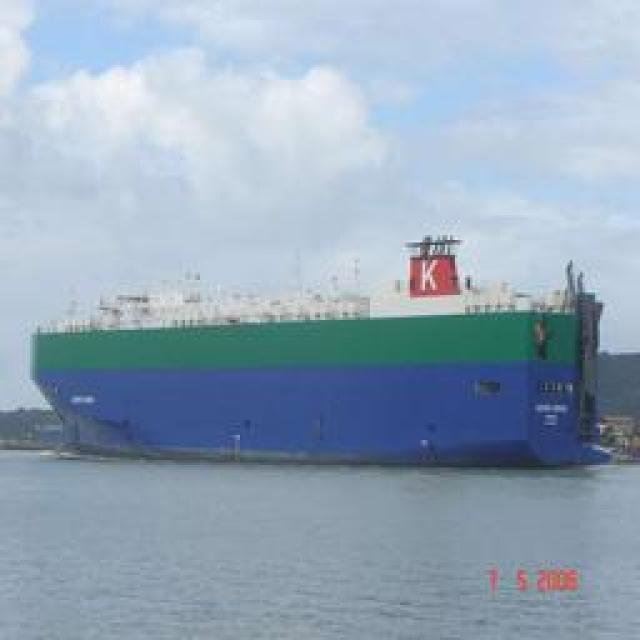ship2: (29, 235, 612, 472)
